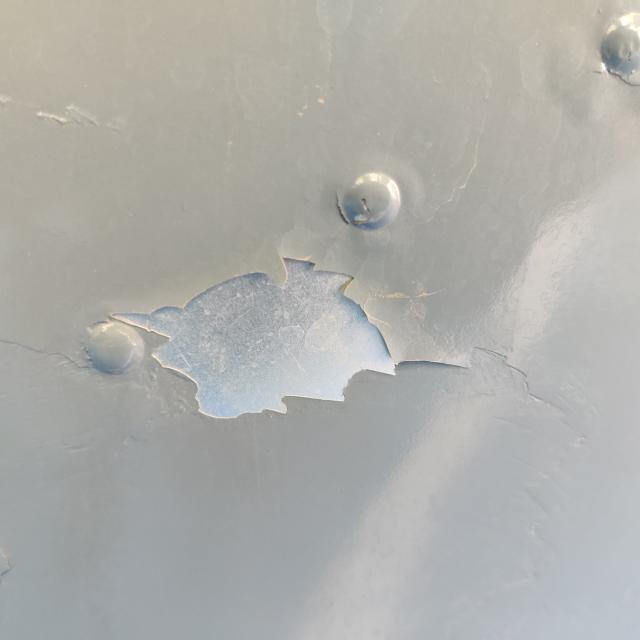paint-off: (90, 233, 495, 442)
